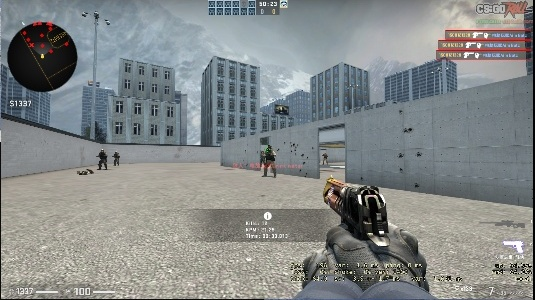body: (263, 145, 277, 178), (97, 148, 108, 170), (112, 151, 121, 166), (260, 151, 266, 168), (323, 153, 329, 165)
head: (268, 144, 272, 151), (100, 148, 104, 153), (261, 151, 264, 156), (324, 151, 326, 156), (115, 151, 117, 155)
